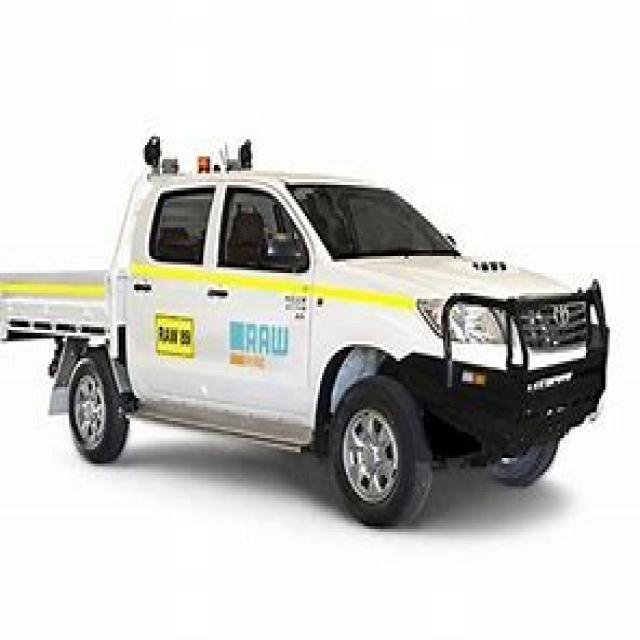light_vehicle: (9, 148, 627, 538)
